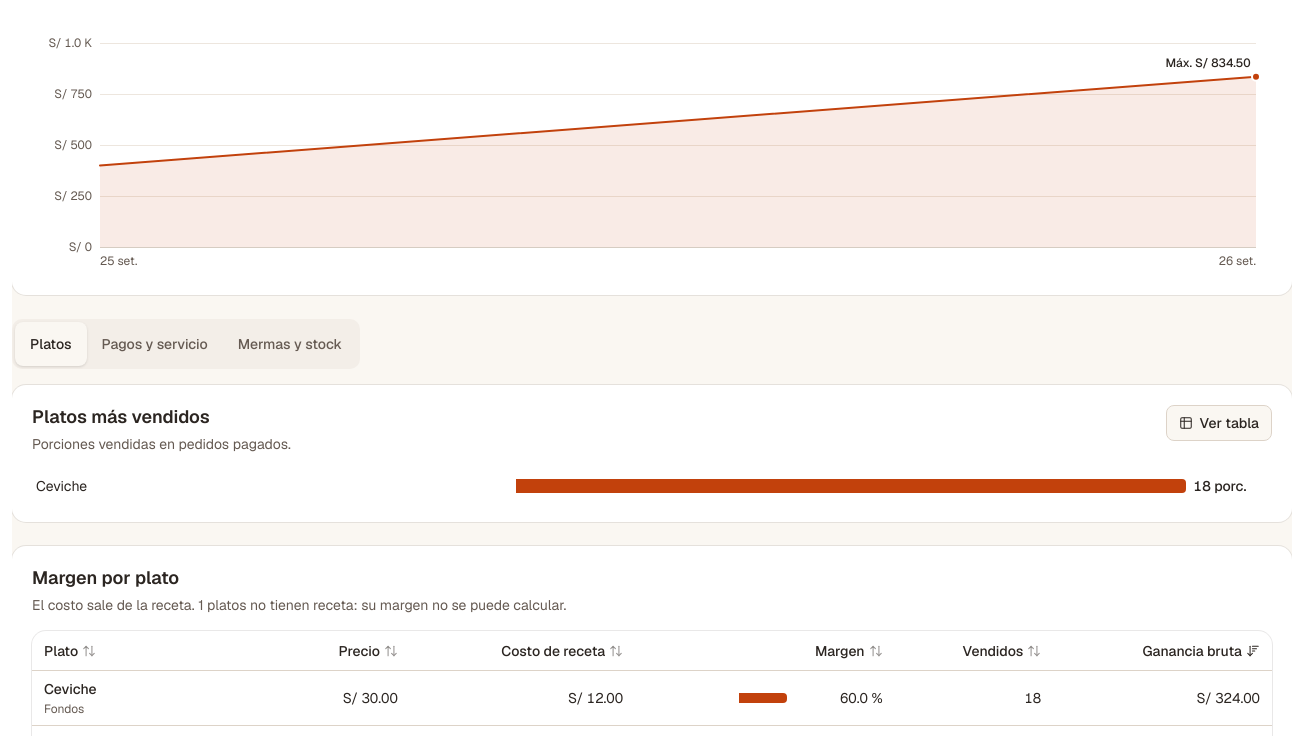
it: InsightsView: secciones › si la IA falla al clasificar, lo dice
(page scrolled)
Click the tab "Mermas y stock".
click(290, 344)  # box [223,322,357,366]
(page scrolled)
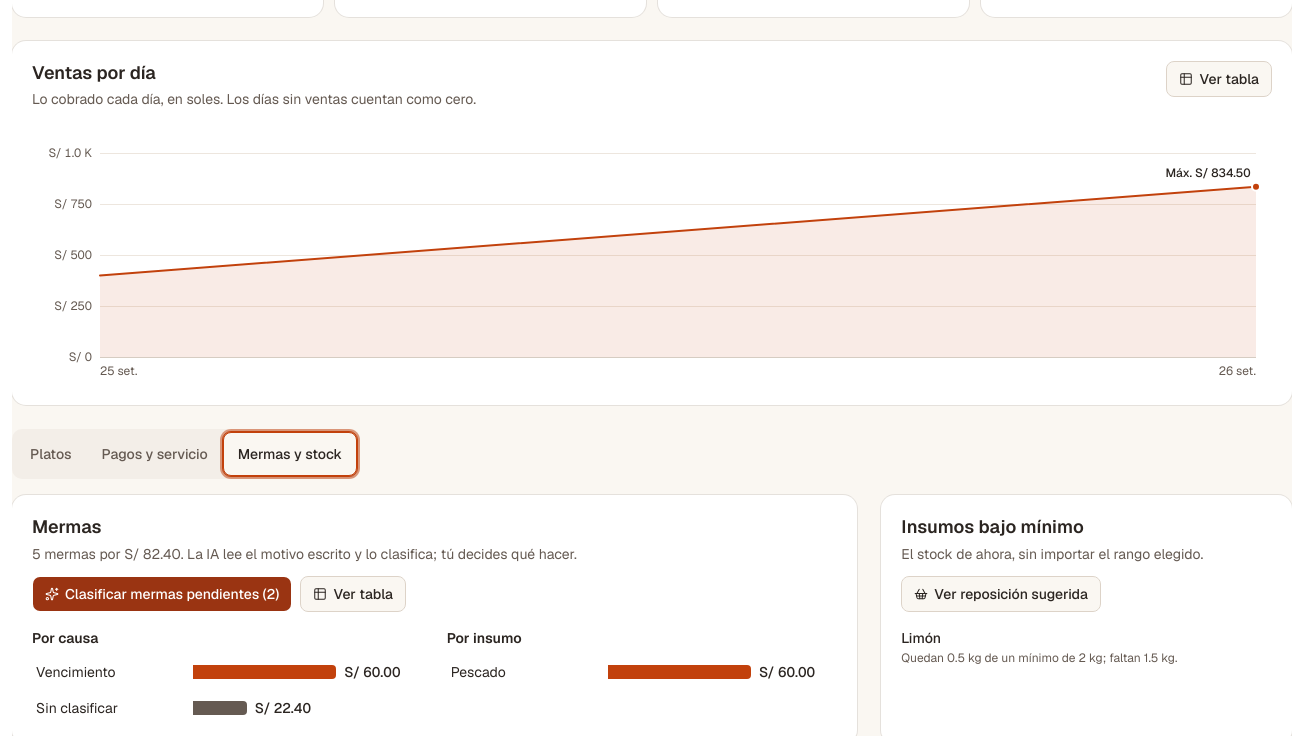
Click the button "Clasificar mermas pendientes (2)".
click(162, 594)  # box [32,576,292,612]
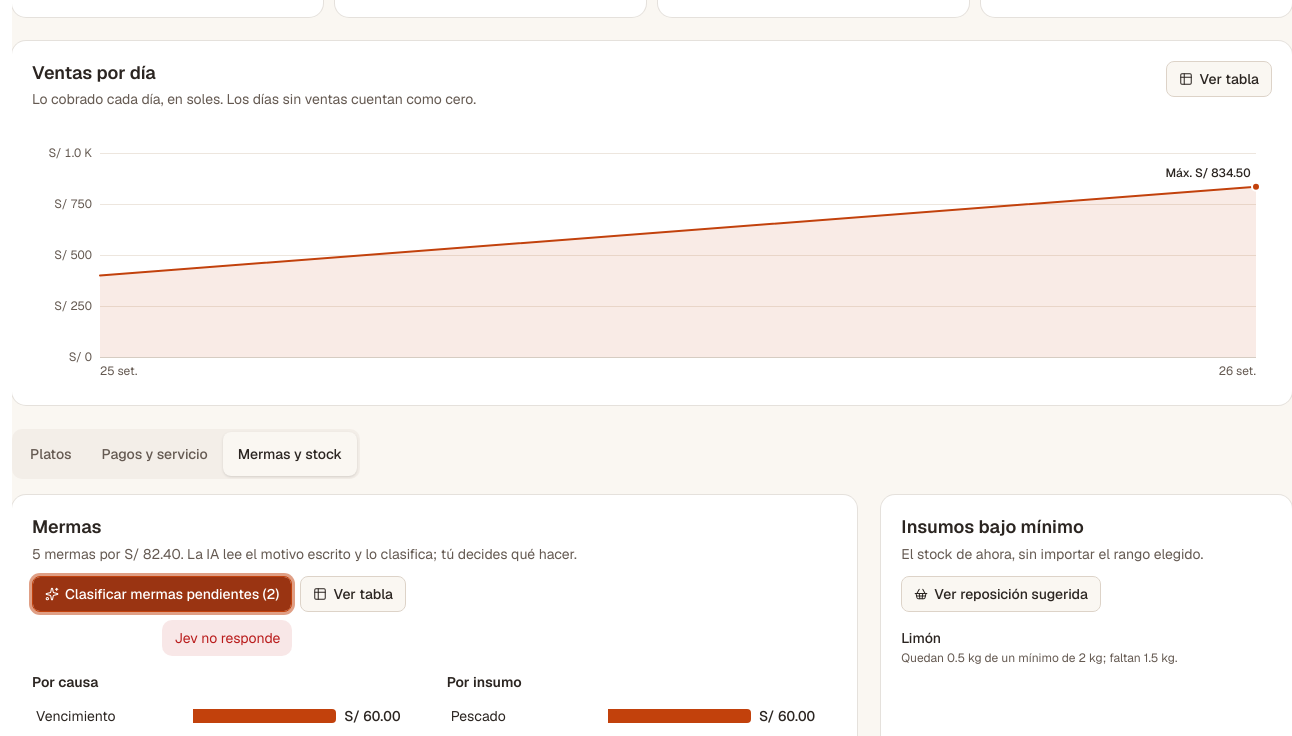
Expected: the text "Jev no responde" is shown, [162,620,292,656]
